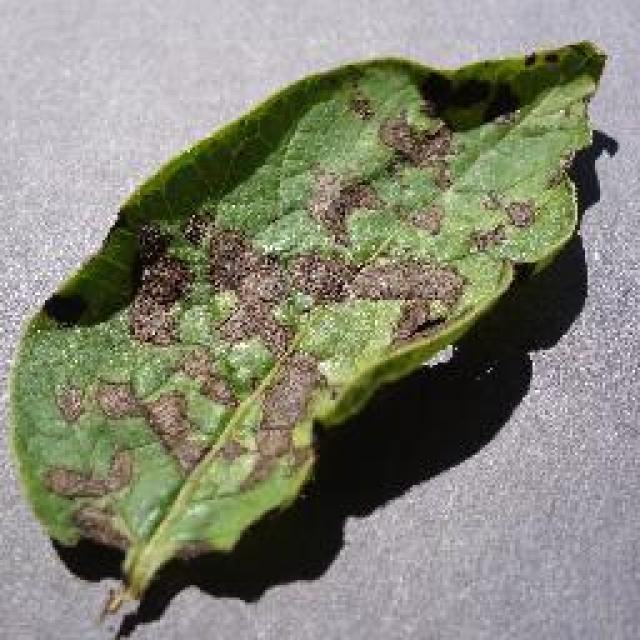Potato: (5, 35, 607, 617)
